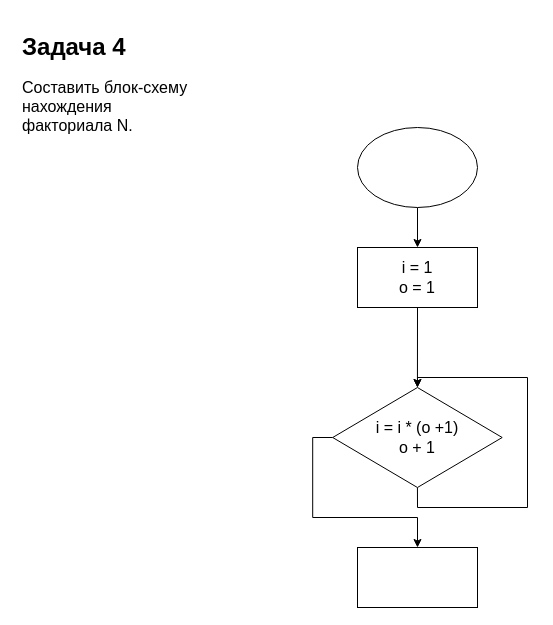
This 553x625 diagram has some shape labels left out. Each missing label, with the box of its shape:
result = i: (356, 546, 478, 608)
Начало: (356, 126, 478, 208)
